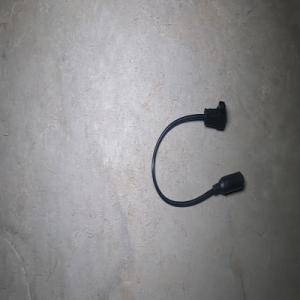Wire: (151, 101, 244, 207)
